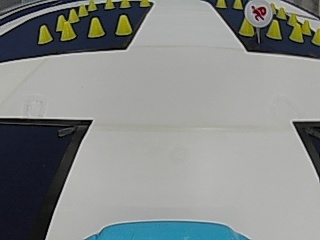thief: (243, 0, 273, 26)
